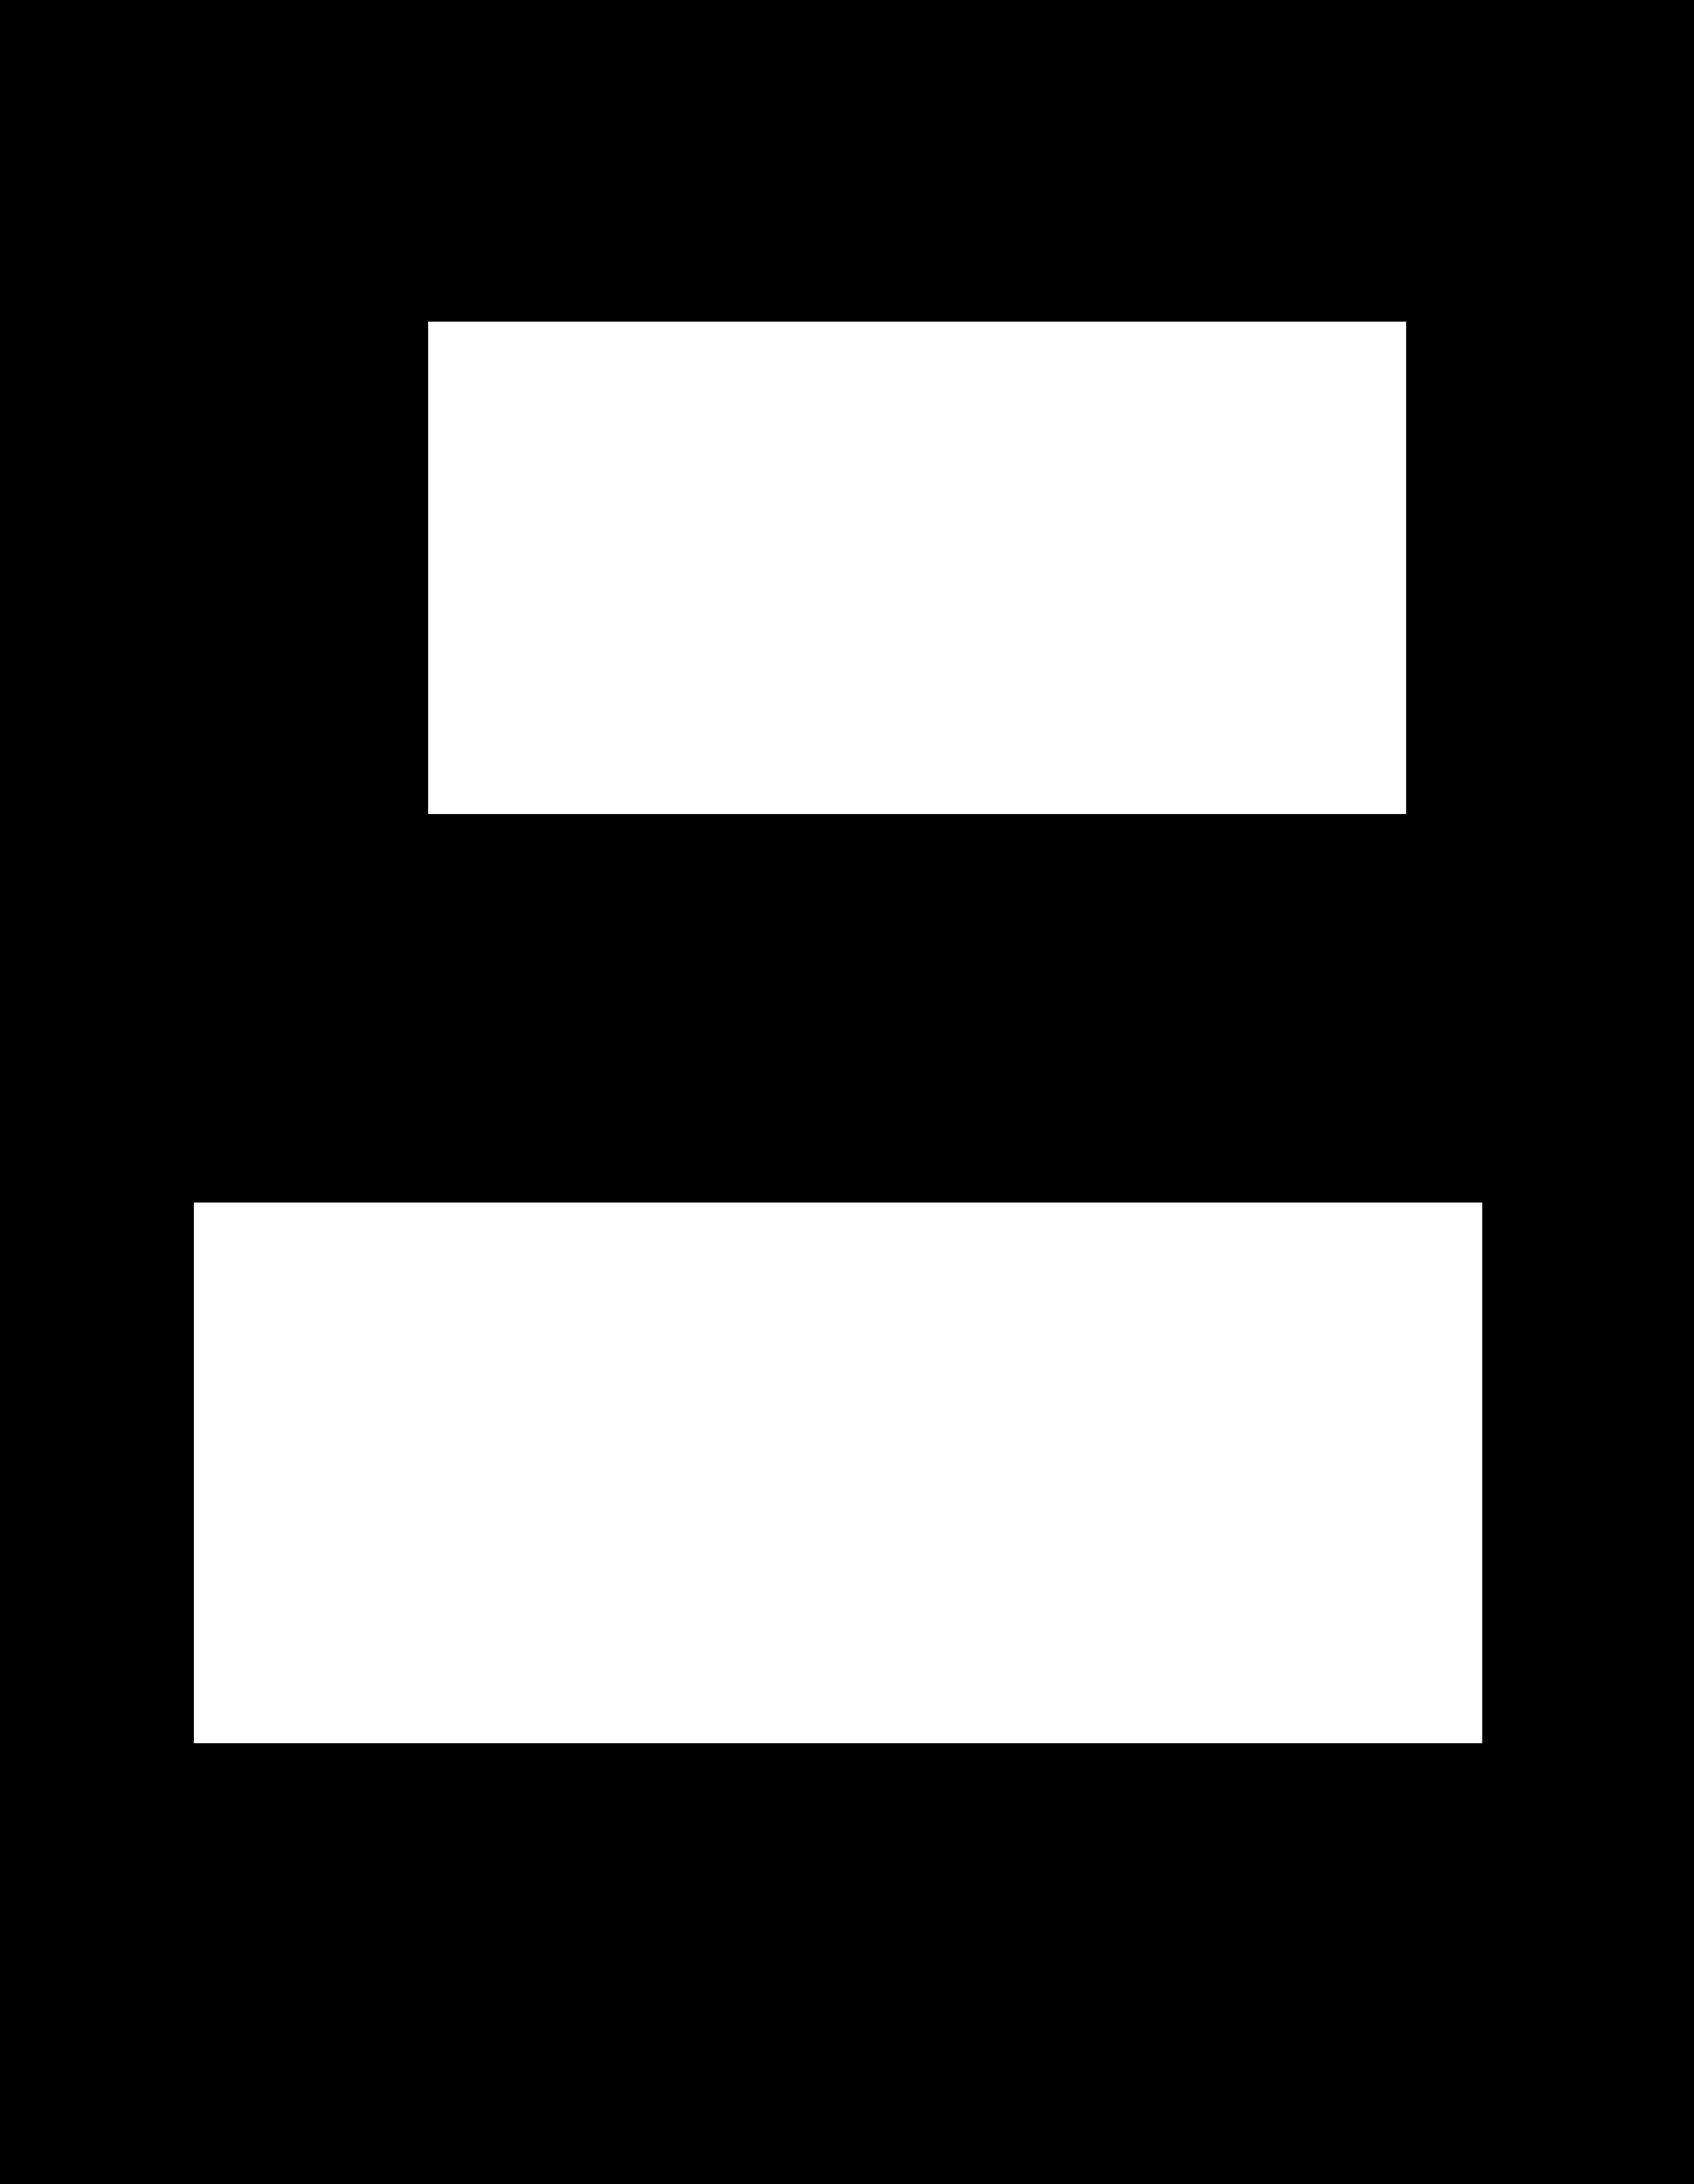table: (193, 1202, 1481, 1743), (429, 321, 1405, 814)
